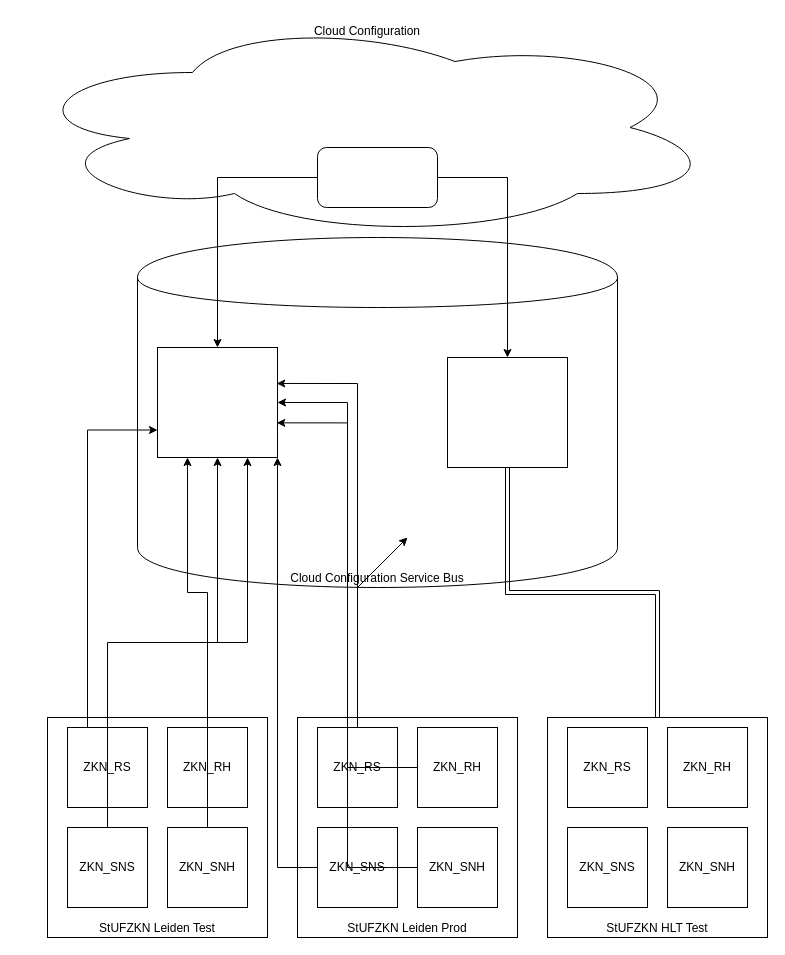
Image size: 785x955. Some labels were removed from this diagram. The shapes that lost their labels are listed below. From the top down, each one's centre as x and y in pixels, then its label:
At pixel 377 177: "Notifier".
At pixel 217 402: "Leiden".
At pixel 507 412: "HLT".
